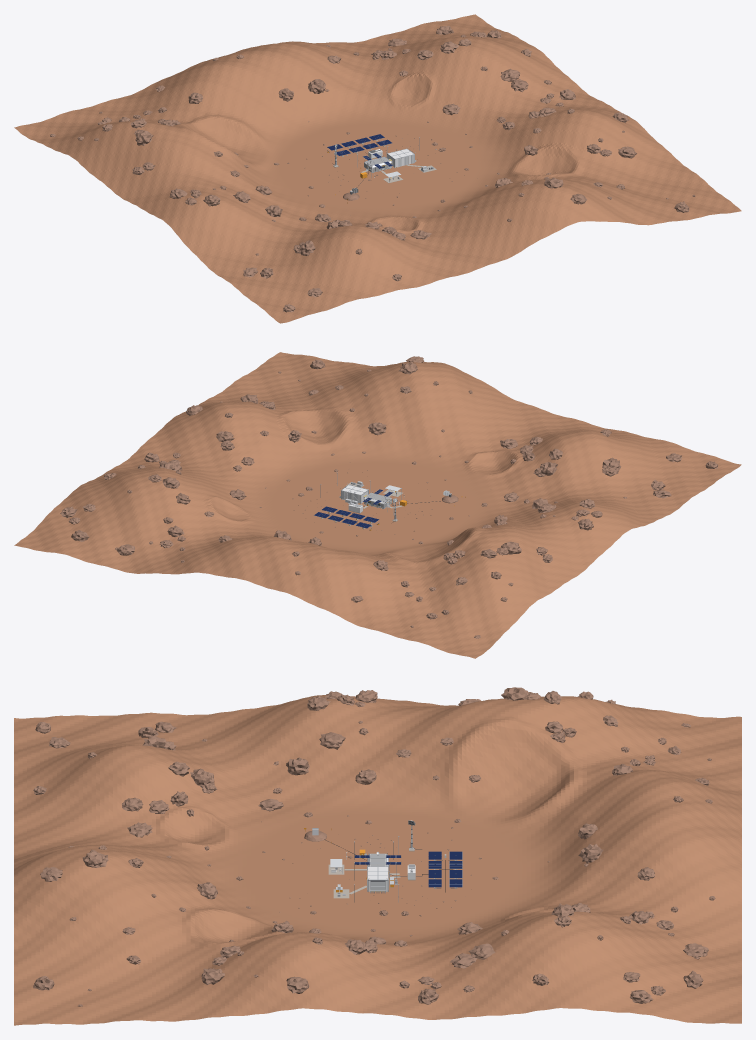
3 views of the same model, one above another, from view 1: azimuth 30°, elevation 25°; view 2: azimuth 150°, elevation 25°; view 3: azimuth 270°, elevation 25° (orthographic). The views are drawn at different scales.
Parts seen in each view (by area): view 1: ENV_Terrain_Regolith, ENV_Rocks_Scattered; view 2: ENV_Terrain_Regolith, ENV_Rocks_Scattered; view 3: ENV_Terrain_Regolith, ENV_Rocks_Scattered.
Boxes of the visible parts, x1=… form: ENV_Terrain_Regolith: x1=14, y1=14, x2=741, y2=323; ENV_Rocks_Scattered: x1=50, y1=25, x2=695, y2=312; ENV_Terrain_Regolith: x1=14, y1=352, x2=741, y2=658; ENV_Rocks_Scattered: x1=60, y1=356, x2=717, y2=638; ENV_Terrain_Regolith: x1=14, y1=695, x2=741, y2=1025; ENV_Rocks_Scattered: x1=33, y1=687, x2=715, y2=1006.
Size of the model in its own units: 280 by 29.96 by 280.
